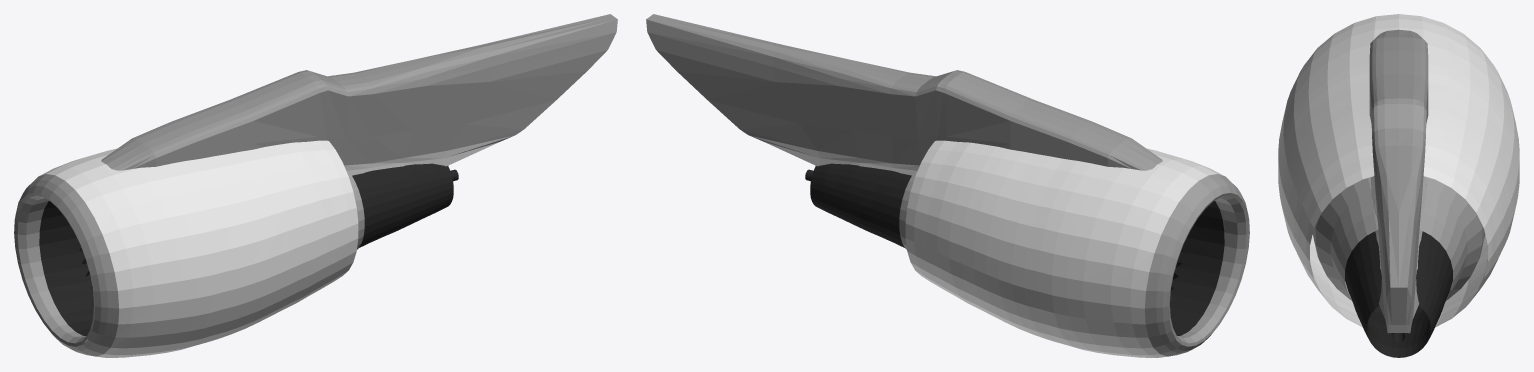
The model's file is cfm56-5B-2.glb.
3 renders of one model, left to right at view 1: azimuth 30°, elevation 25°; view 2: azimuth 150°, elevation 25°; view 3: azimuth 270°, elevation 25°, orthographic. The views are drawn at different scales.
Visible parts, largest first — view 1: New_Game_Object (×6); view 2: New_Game_Object (×6); view 3: New_Game_Object (×6).
Boxes of the visible parts, x1,y1,x2,y2 form: New_Game_Object (×6): [14, 14, 617, 357]; New_Game_Object (×6): [646, 14, 1249, 357]; New_Game_Object (×6): [1278, 14, 1519, 357].
Bounding box in the file's own units: 5.13 × 1.99 × 1.65.
10 materials, 10 textured.
